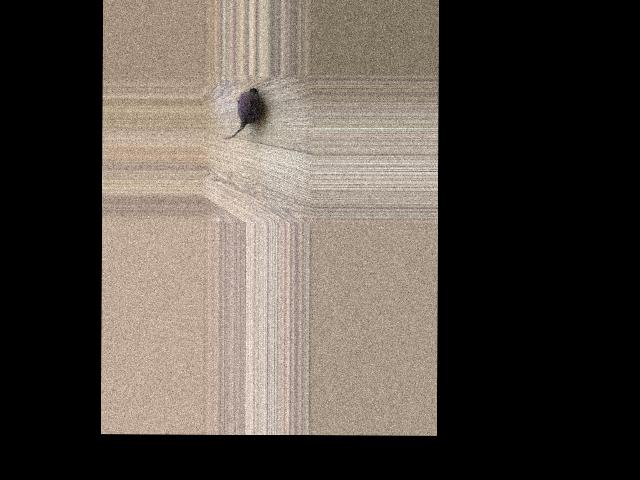beet: (222, 88, 262, 140)
